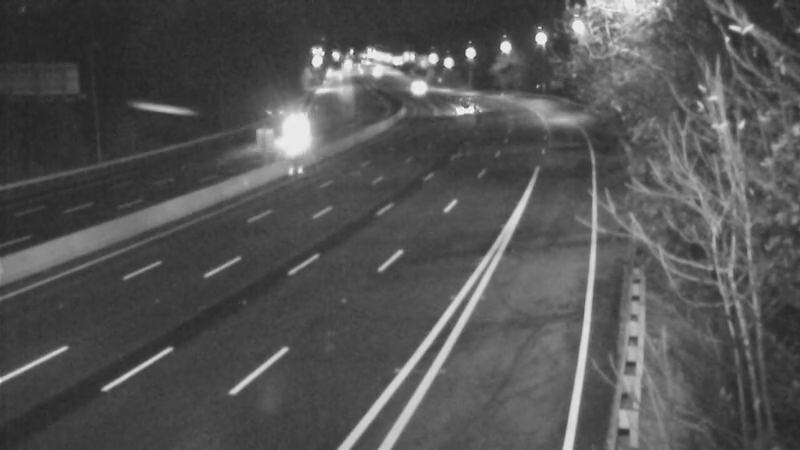vehicle: (389, 61, 439, 111), (434, 76, 484, 126), (282, 108, 332, 158)
